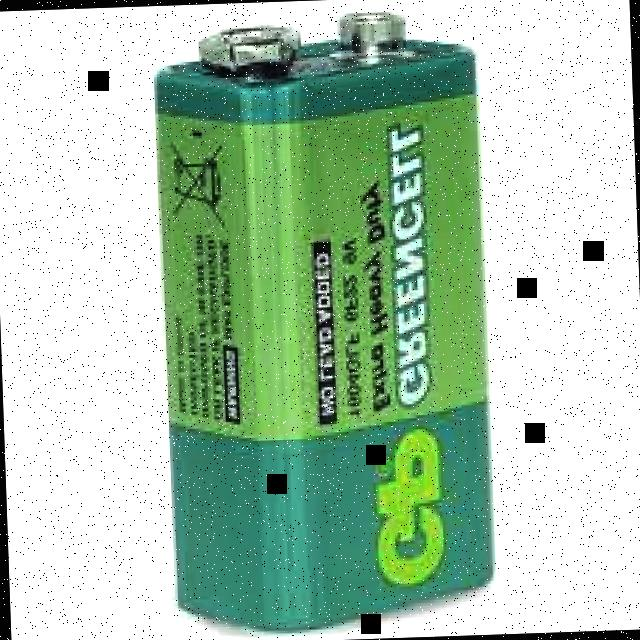battery: (154, 11, 496, 631)
